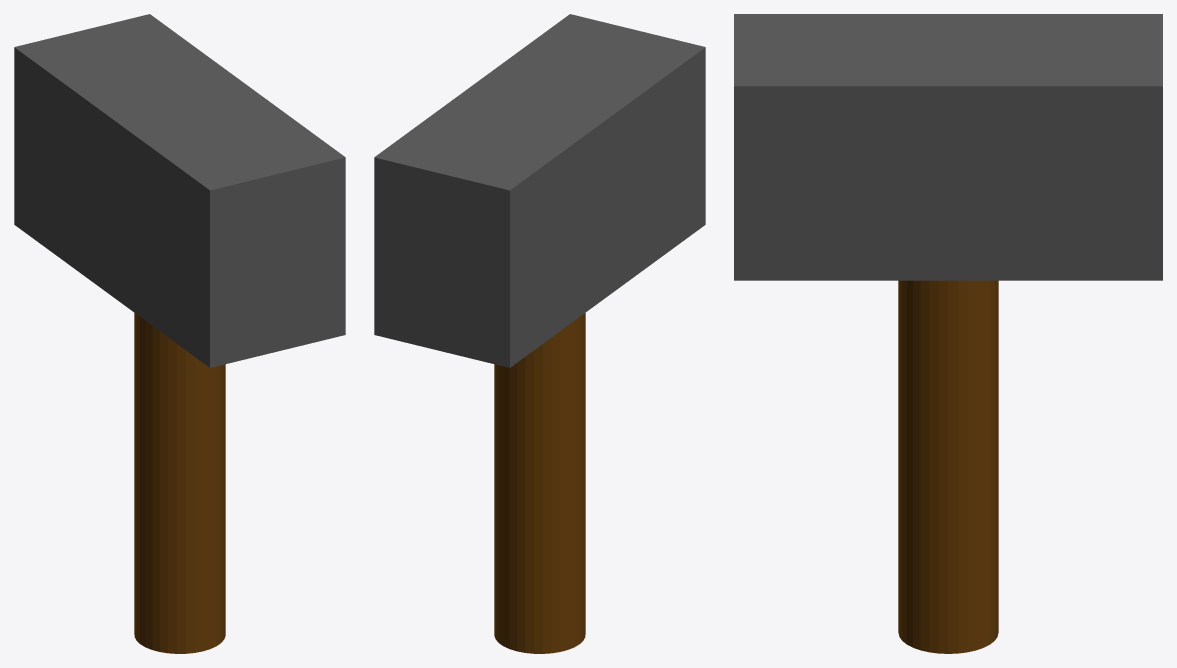
Rendered from Hakku.fbx.
3 renders of one model, left to right at view 1: azimuth 30°, elevation 25°; view 2: azimuth 150°, elevation 25°; view 3: azimuth 270°, elevation 25°, orthographic. The views are drawn at different scales.
Parts seen in each view (by area): view 1: Sylinteri; view 2: Sylinteri; view 3: Sylinteri.
Part boxes in pixels (bbox=[...]): Sylinteri: bbox=[14, 14, 345, 653]; Sylinteri: bbox=[374, 14, 705, 653]; Sylinteri: bbox=[734, 14, 1162, 653].
Bounding box in the file's own units: 12 × 44.99 × 30.
